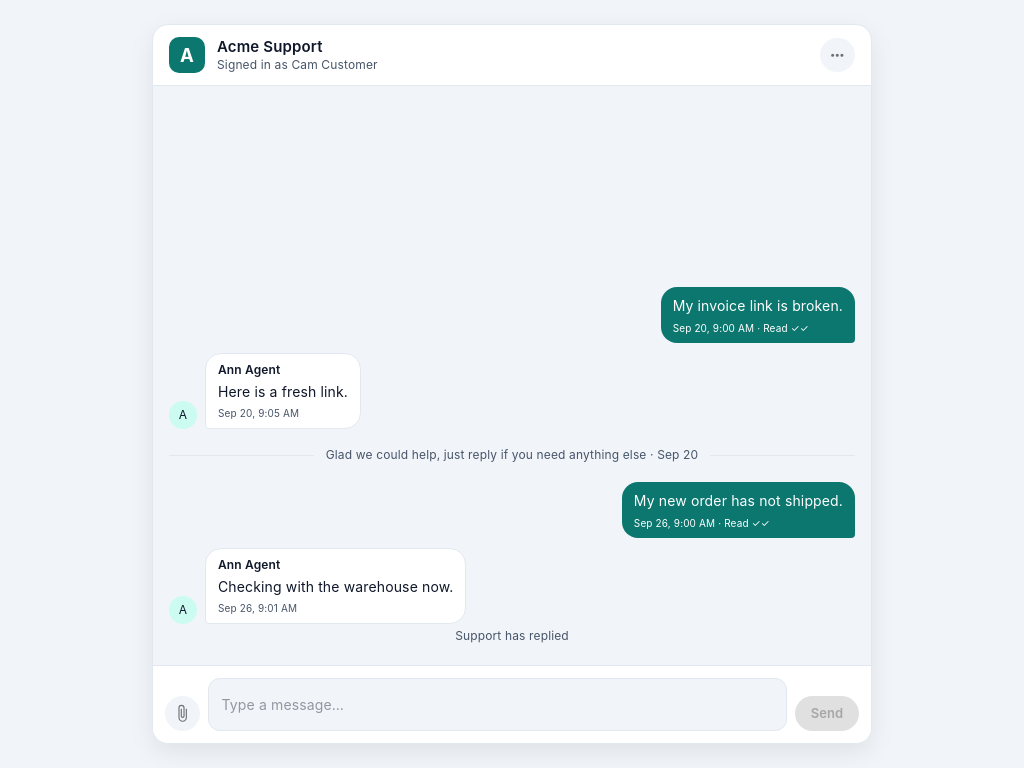
it: ChatPage › keeps a rate-limited message with a countdown and retries it with the same clientMessageId
Expected: the text "Checking with the warehouse now." is shown, [218,576,454,597]
Type "Hello?" into the text box labelled "message" at (497, 704), box [222,694,773,714]
Then press Enter
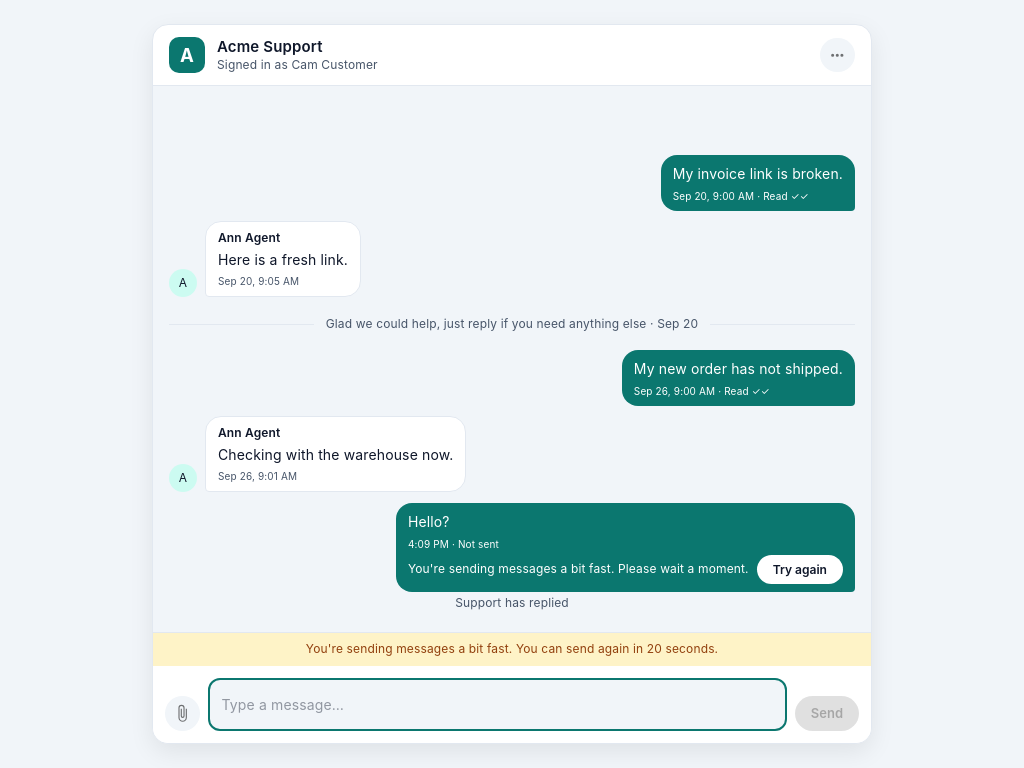
Expected: the text "4:09 PM · Not sent" is shown, [408,537,499,549]
Expected: the text "You can send again in 20 seconds" is shown, [153,633,871,666]
Click the button "Try again" at (800, 569), box [757,554,843,583]
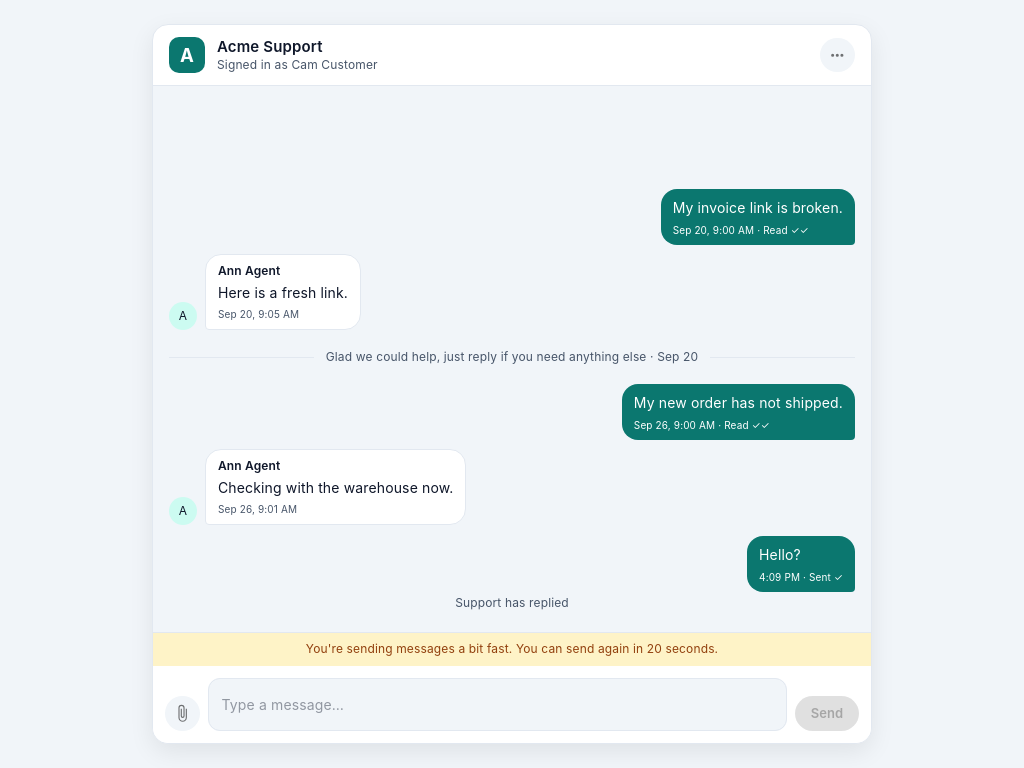
Expected: the text "Not sent" is gone
